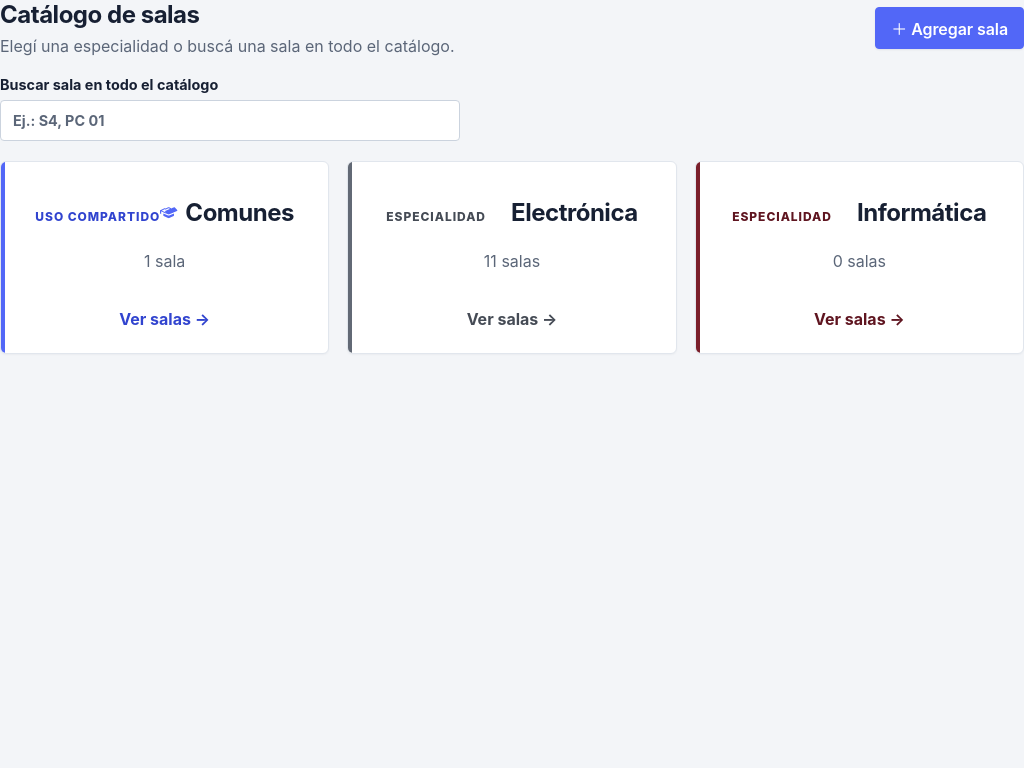
Test: muestra el conflicto si la sala pasó a usarse antes de confirmar
Click the button "Especialidad Electrónica 11 salas Ver salas →" at (512, 258), box [347,161,677,354]
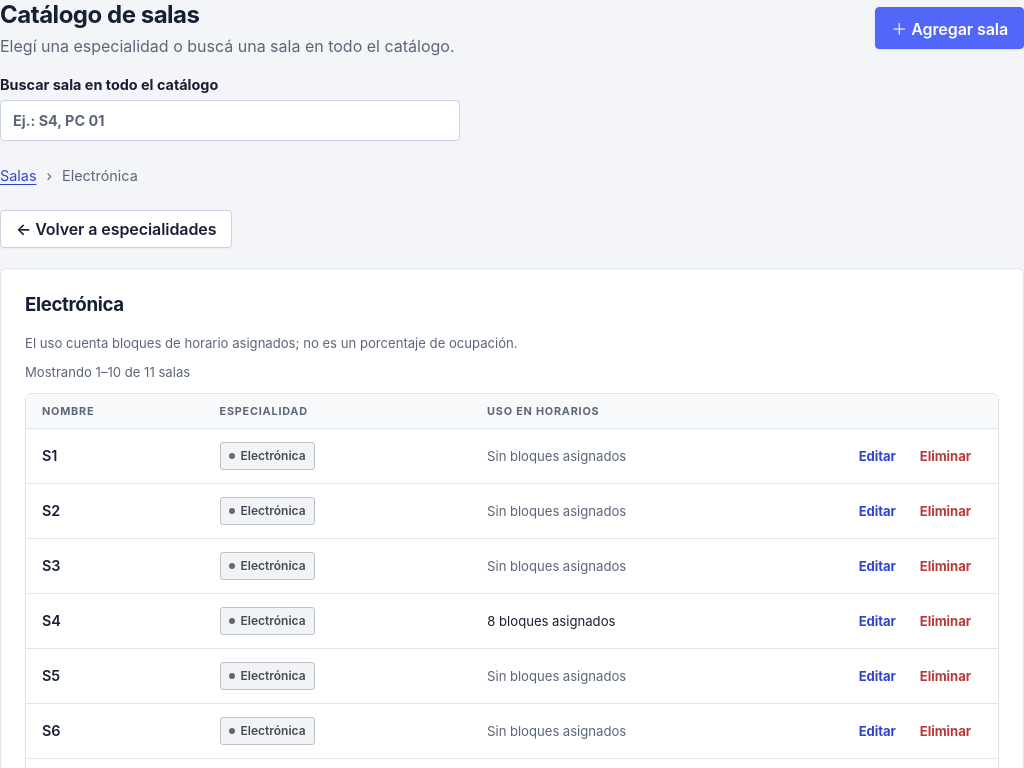
Click the button with aria-label "Eliminar S1" at (945, 456), box [909,440,982,472]
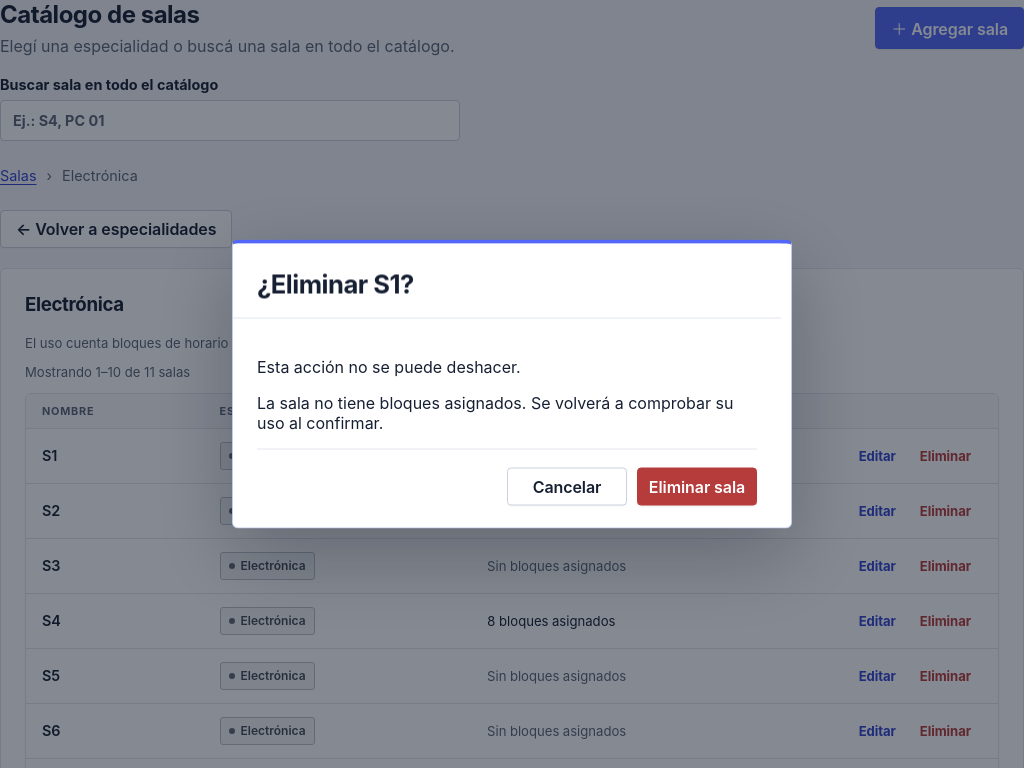
Click the button "Eliminar sala" at (697, 486), box [637,468,757,506]
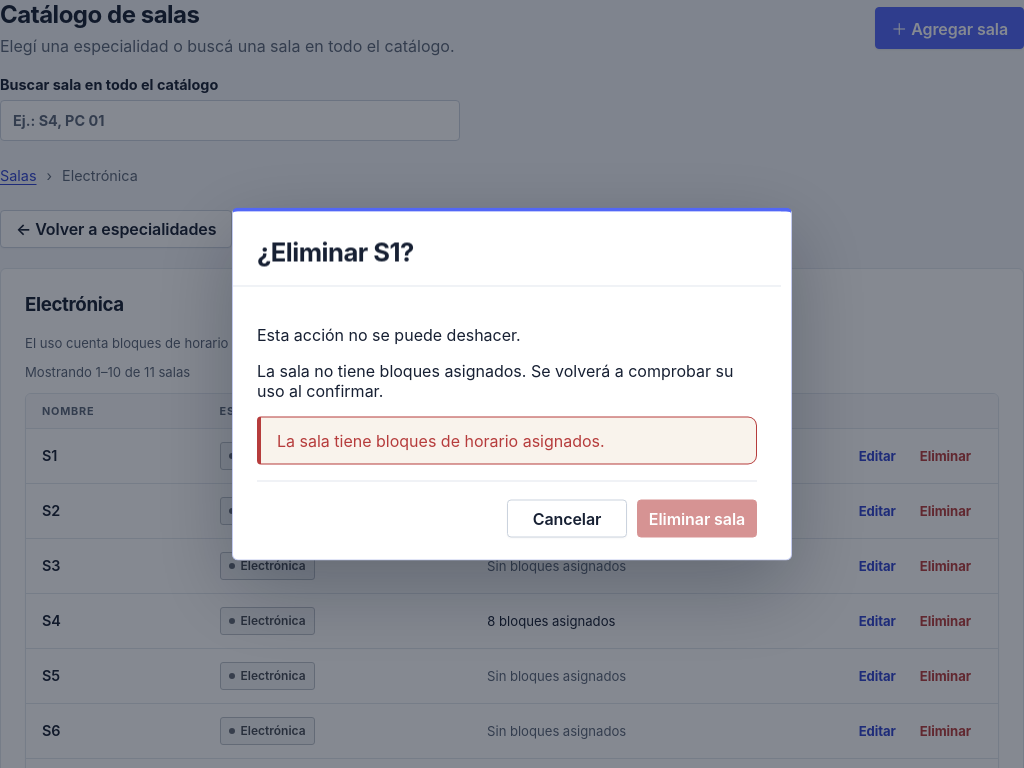
Expected: the message shows "La sala tiene bloques", [277,430,605,450]
Expected: the button "Eliminar sala" is disabled, [637,500,757,538]
